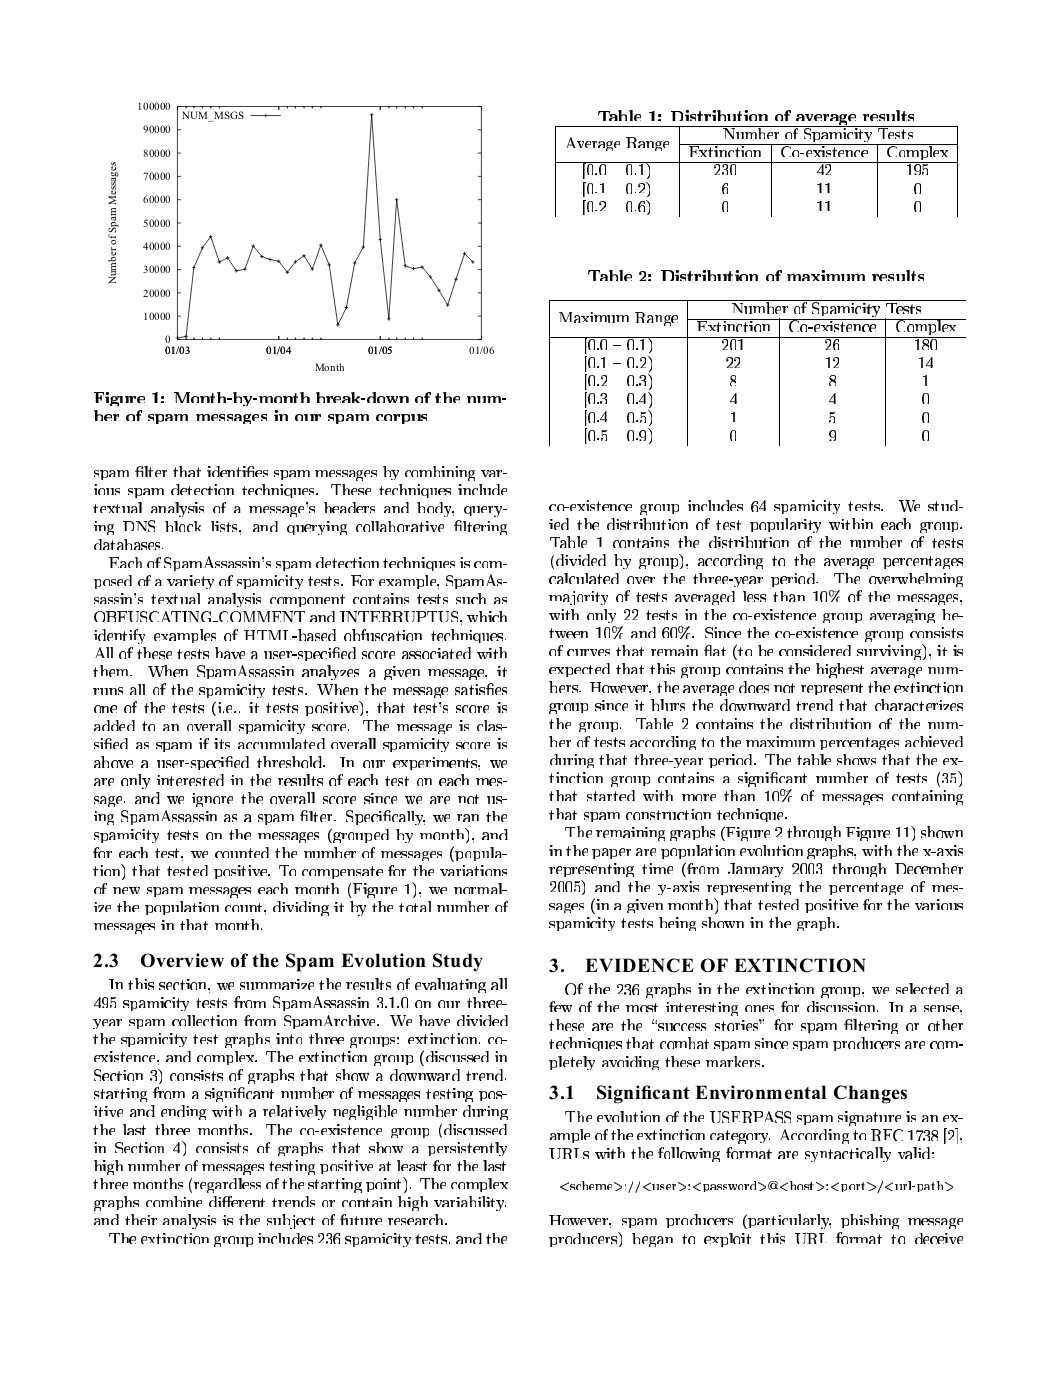Table: (549, 299, 965, 446), (555, 109, 957, 217)
figure: (108, 103, 493, 371)
